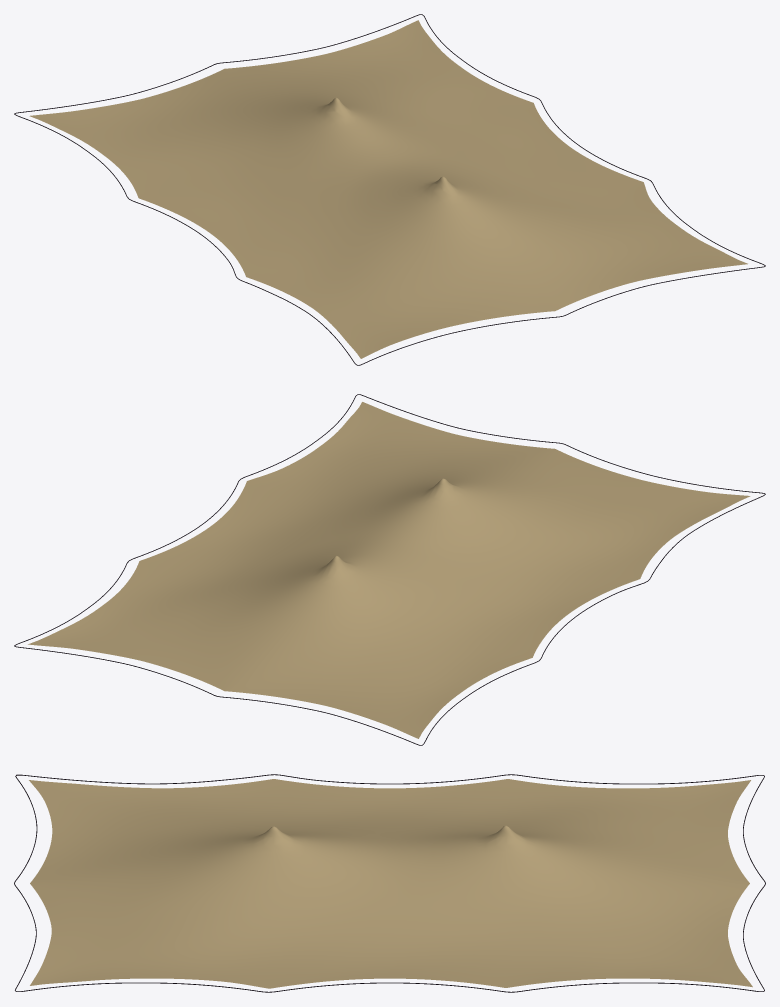
File: 8x12-tent-rope.glb
3 views of the same model, one above another, from view 1: azimuth 30°, elevation 25°; view 2: azimuth 150°, elevation 25°; view 3: azimuth 270°, elevation 25° (orthographic). The views are drawn at different scales.
Parts seen in each view (by area): view 1: FA 8x12 Zelt, FA 8x12 Seil; view 2: FA 8x12 Zelt, FA 8x12 Seil; view 3: FA 8x12 Zelt, FA 8x12 Seil.
Part boxes in pixels (bbox=[...]): FA 8x12 Zelt: bbox=[29, 20, 747, 358]; FA 8x12 Seil: bbox=[14, 14, 765, 365]; FA 8x12 Zelt: bbox=[28, 402, 750, 738]; FA 8x12 Seil: bbox=[14, 394, 765, 745]; FA 8x12 Zelt: bbox=[29, 779, 752, 988]; FA 8x12 Seil: bbox=[14, 774, 765, 992].
Bounding box in the file's own units: 9.17 × 1.16 × 13.36.
